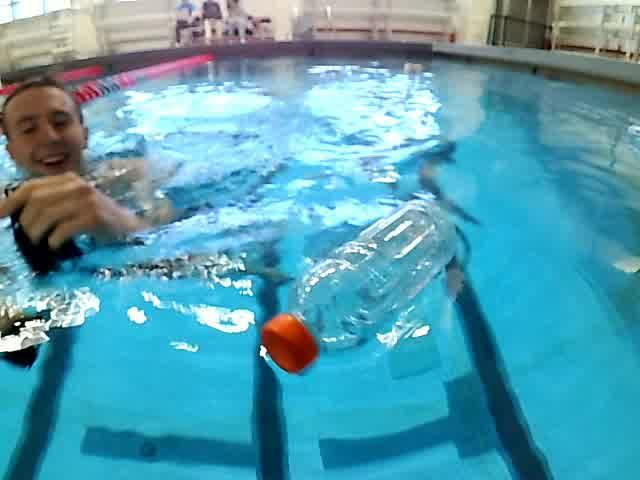Bottle: (256, 194, 464, 380)
